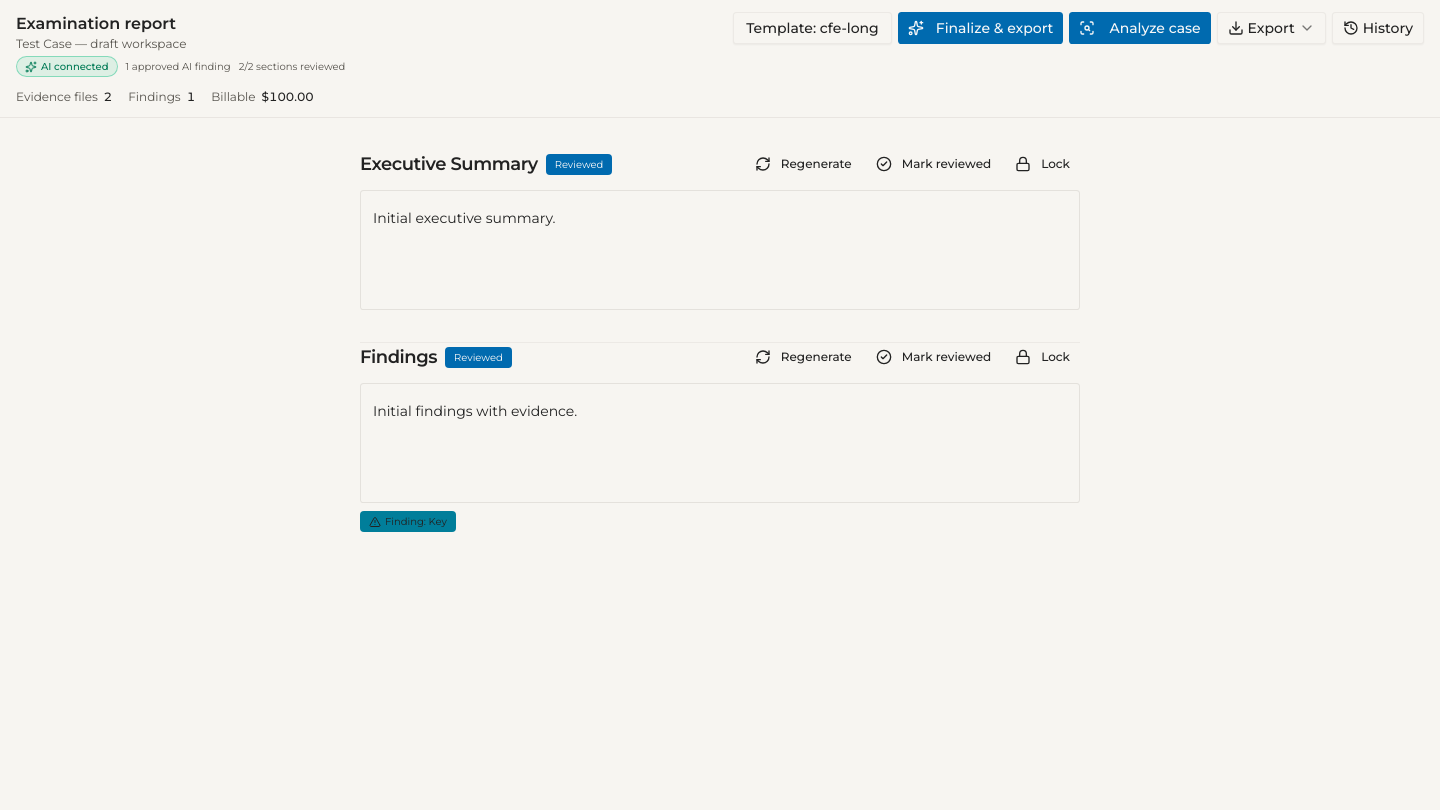
Test: ReportWorkspace customer flows › finalize checklist blocks export when incomplete (Flow E)
Click the button "Finalize & export" at point(981, 28), box [898,12,1064,44]
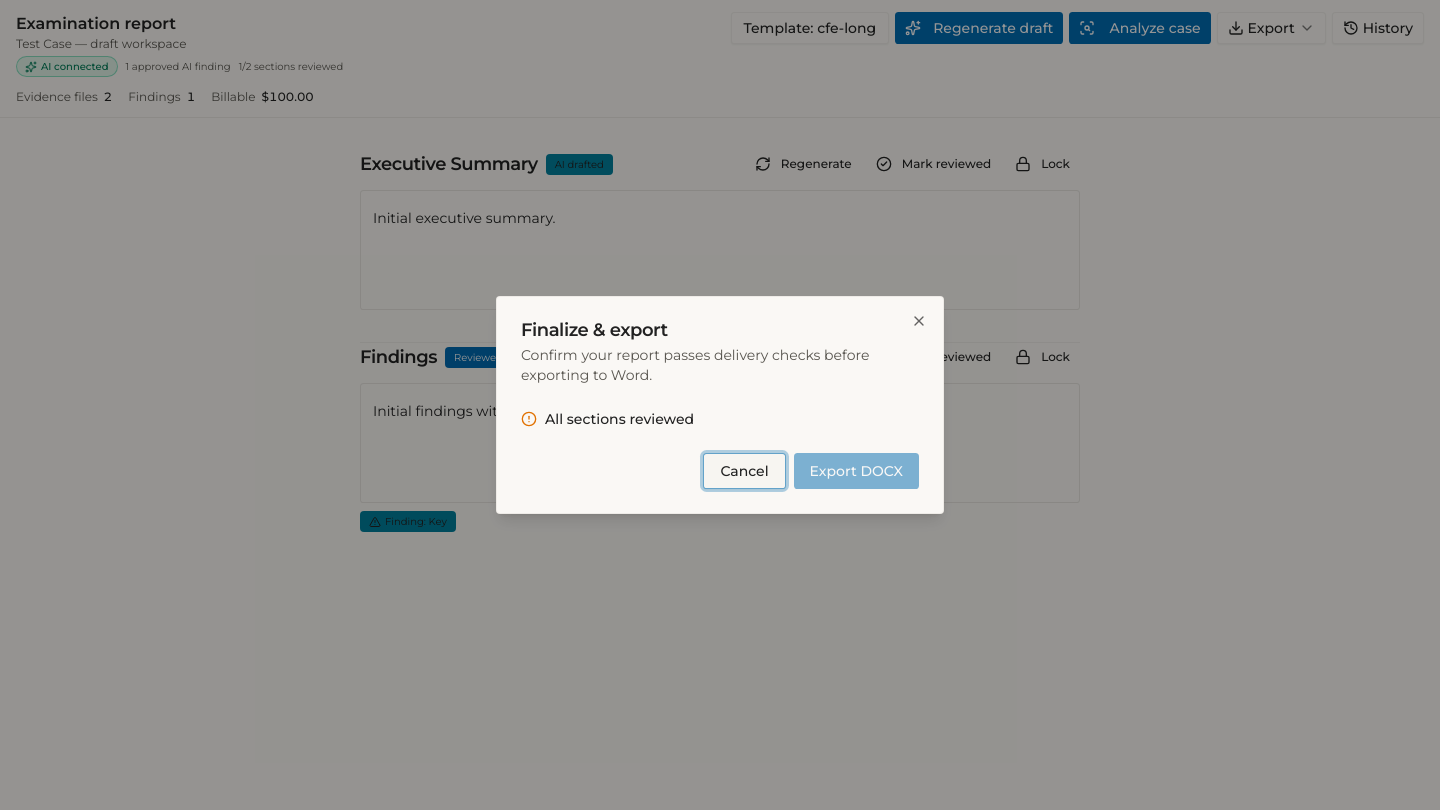
Now the button "Export DOCX" is disabled, box [794,453,919,489]
